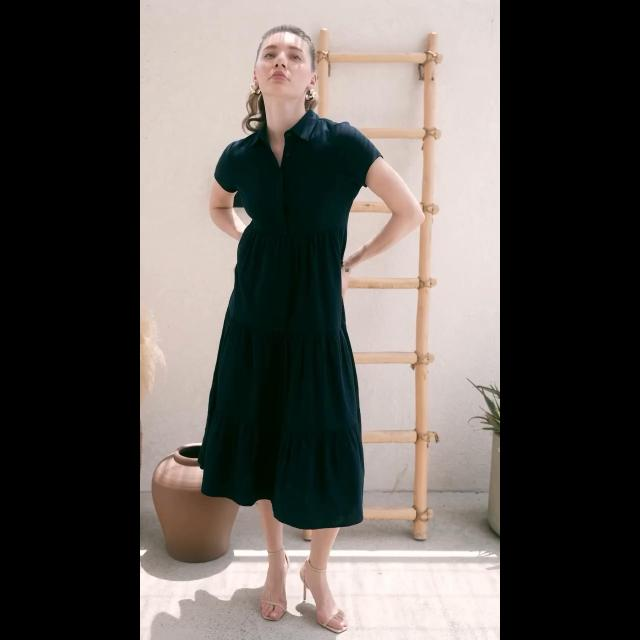dress: (203, 123, 387, 527)
